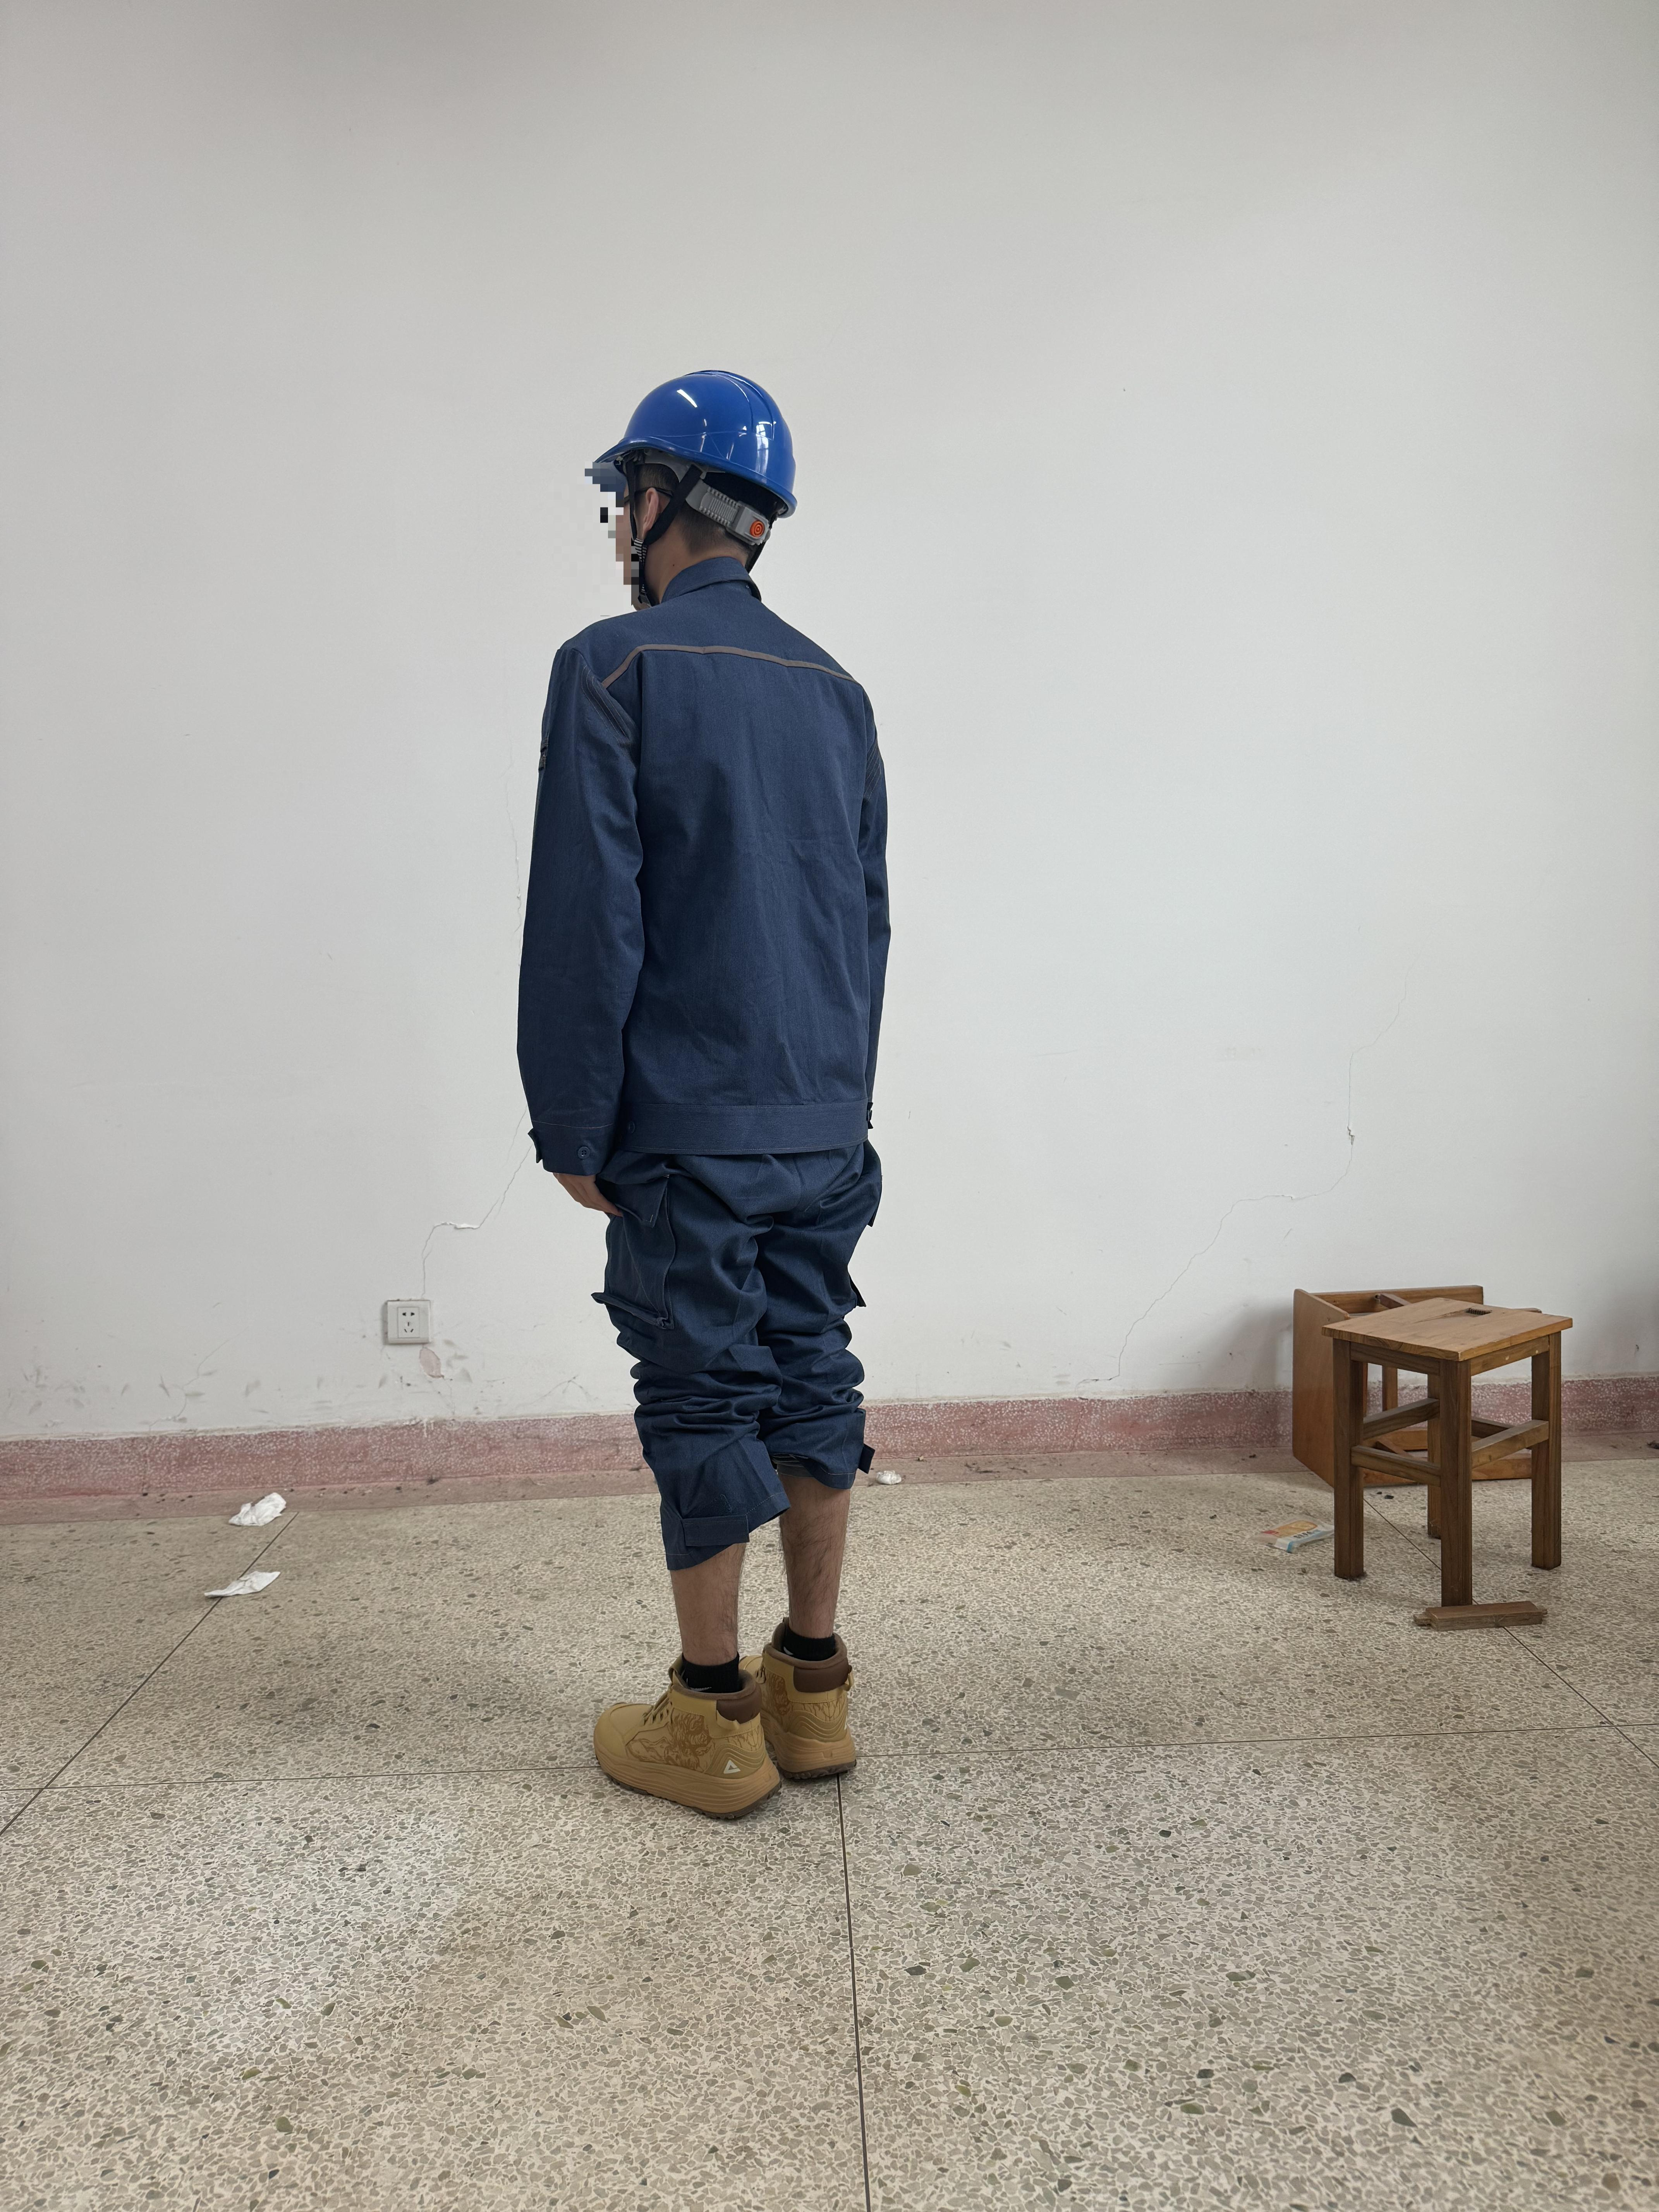halt: (580, 368, 802, 599)
inear: (615, 462, 690, 585)
